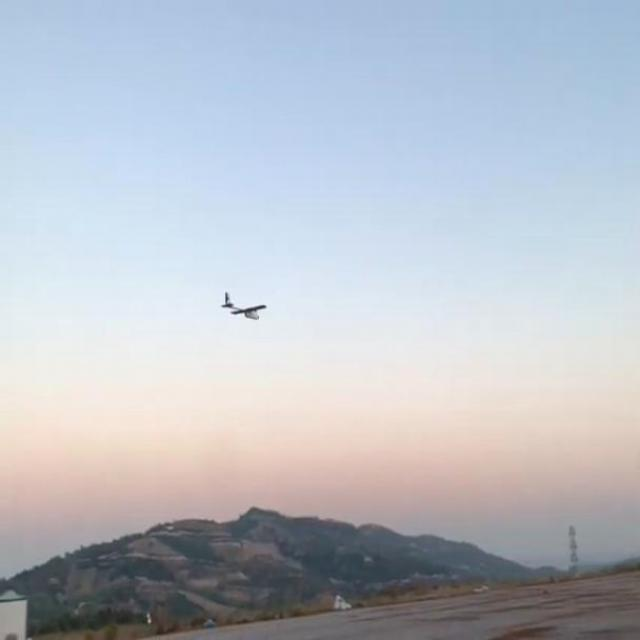iha: (218, 286, 267, 328)
